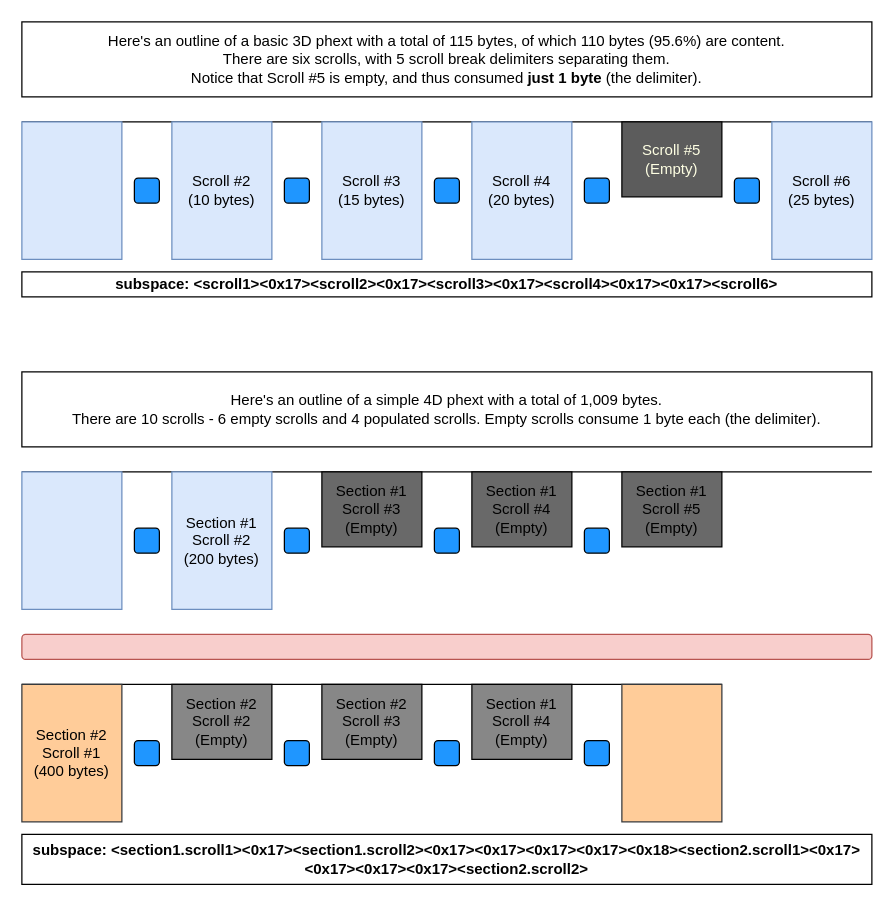
The diagram is 895 pixels wide and 906 high, and some of its shapes have lost their labels. Here are the shapes that lost their labels. From the top down, the centre of each, then its label:
At point 71,190: "Scroll #1 (40 bytes)".
At point 71,540: "Section #1 Scroll #1 (300 bytes)".
At point 446,646: "Section Break (0x18)".
At point 671,752: "Section #2 Scroll #5 (100 bytes)".
